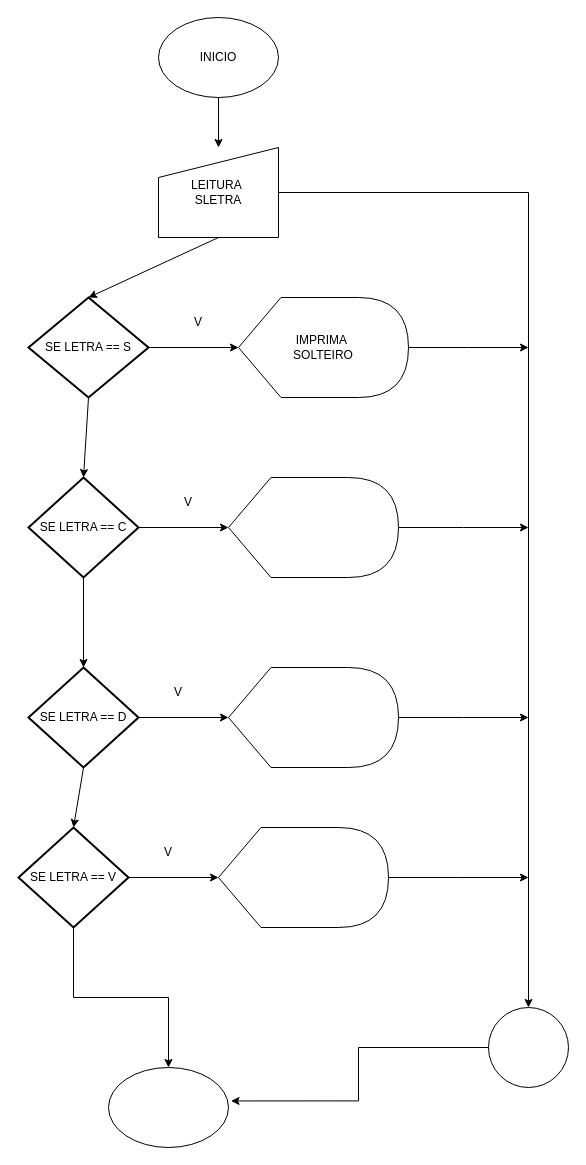
Image size: 586x1165. Some labels were removed from this diagram. The box of each missing label's shape, as (x1, y1, x2, y2) in pixels:
FIM: (108, 1066, 228, 1148)
IMPRIMA CASADO: (228, 476, 398, 578)
IMPRIMA DIVORCIADO: (228, 666, 398, 768)
IMPRIMA VIUVO: (218, 826, 388, 928)
